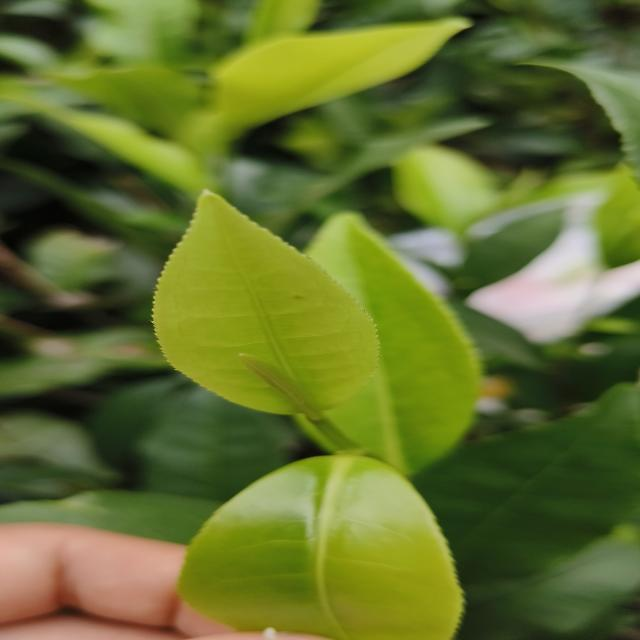Leaf: (178, 454, 463, 640), (153, 192, 378, 413), (415, 383, 640, 587), (307, 213, 480, 474), (214, 18, 470, 139), (137, 381, 296, 502), (45, 109, 206, 194), (54, 65, 198, 136), (392, 145, 499, 233)
